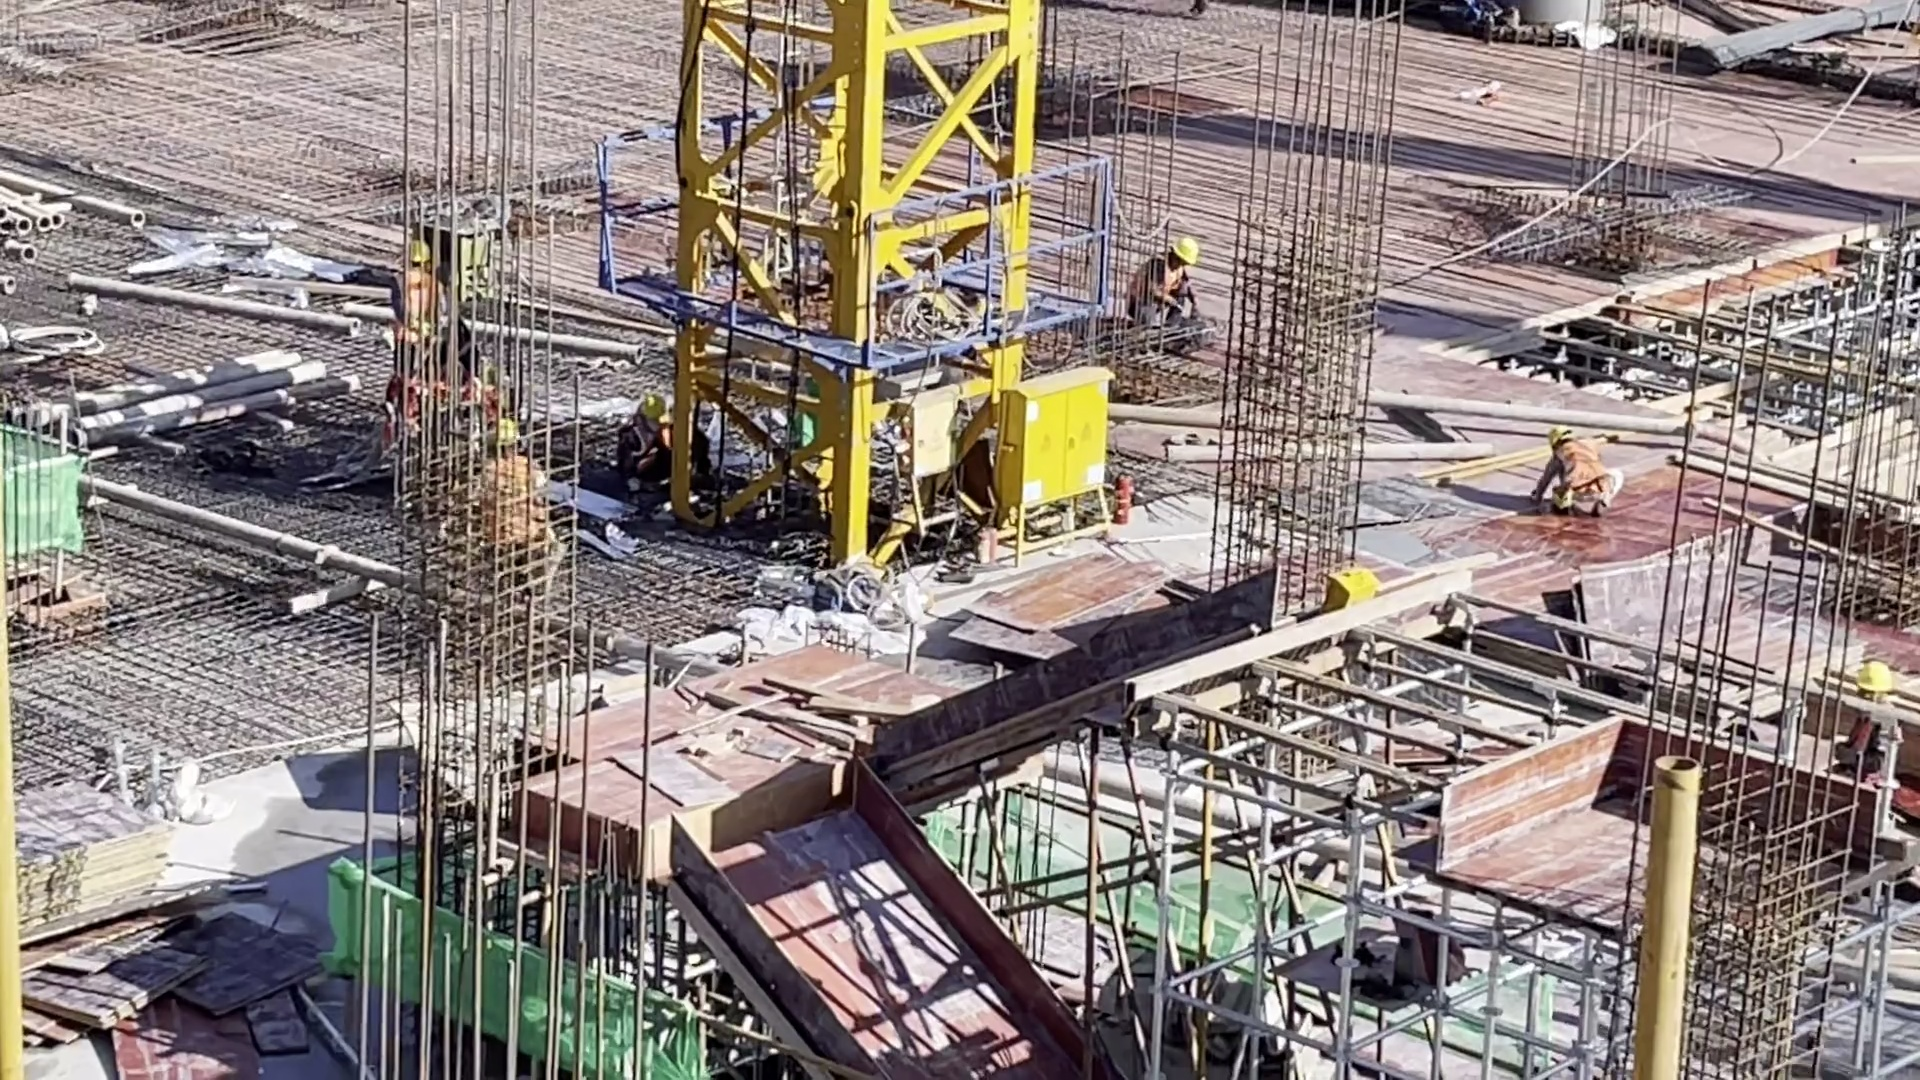board: (26, 915, 330, 1080), (1, 777, 173, 942)
ebox: (992, 371, 1115, 573), (900, 393, 964, 560), (1324, 570, 1388, 618)
helmet: (476, 416, 521, 457), (1169, 240, 1210, 280), (1852, 660, 1896, 692), (632, 396, 672, 428)
person: (463, 405, 552, 601), (1128, 245, 1207, 348), (1534, 424, 1620, 513), (613, 395, 670, 491)
rebar: (1649, 1, 1920, 86)
vest: (479, 459, 542, 553), (1559, 450, 1609, 505)
